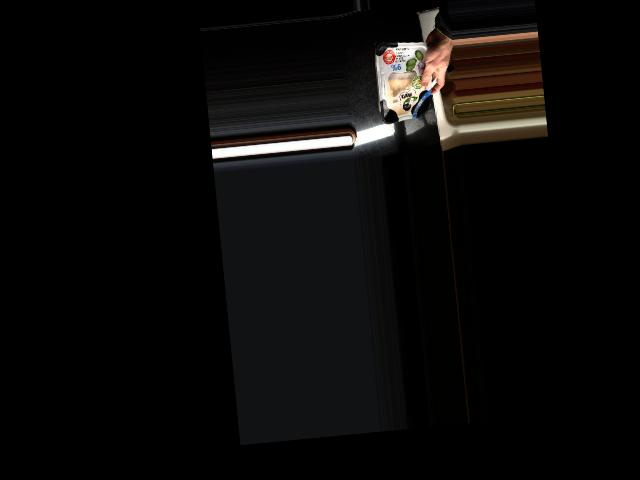cheese: (374, 38, 441, 122)
